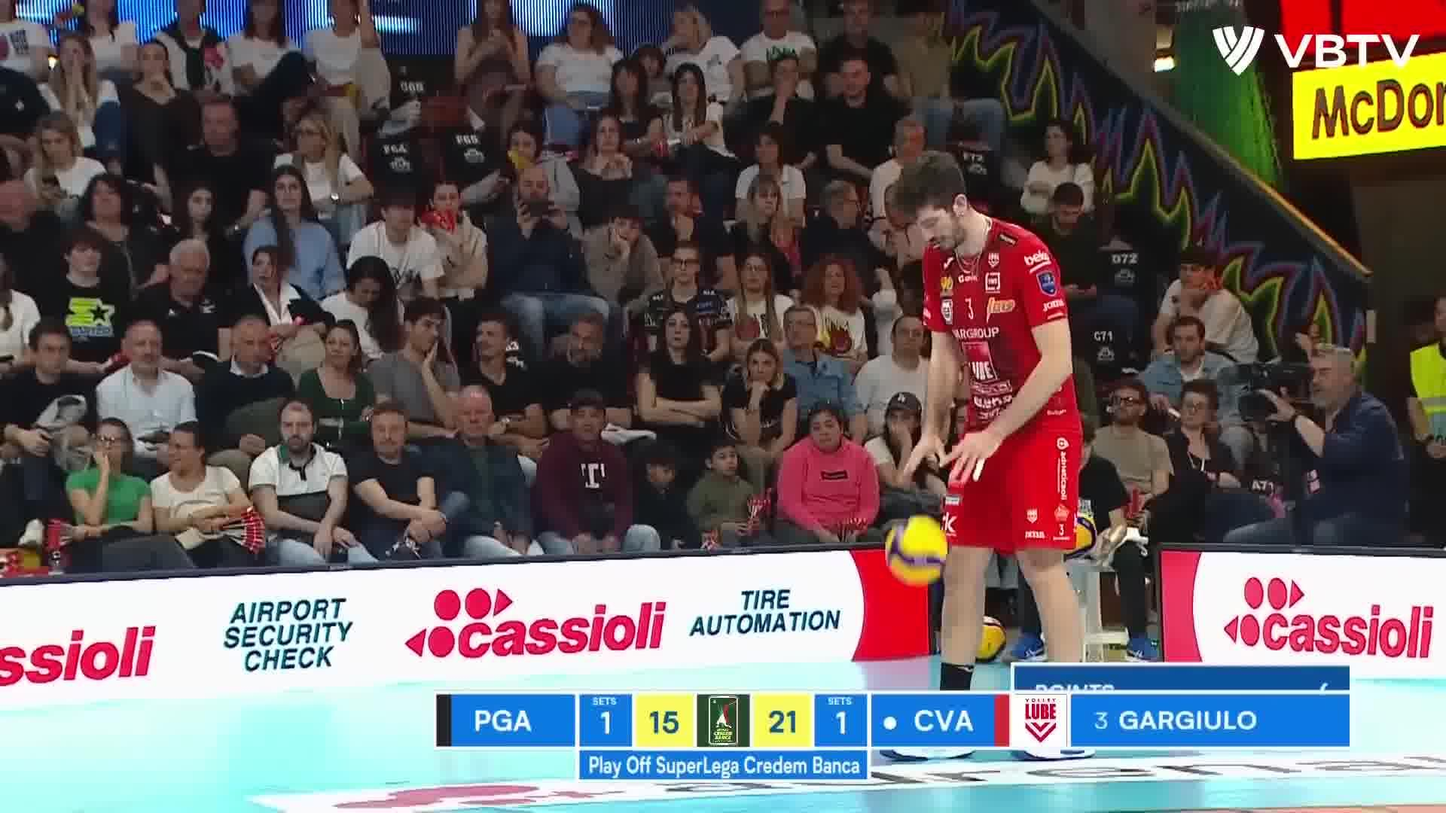balls: (881, 511, 953, 585)
